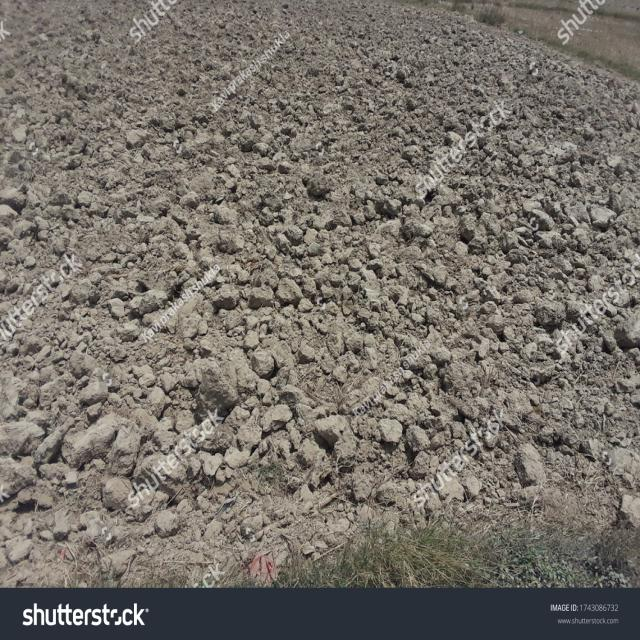Alluvial Soil: (21, 35, 229, 545), (304, 70, 608, 412)
